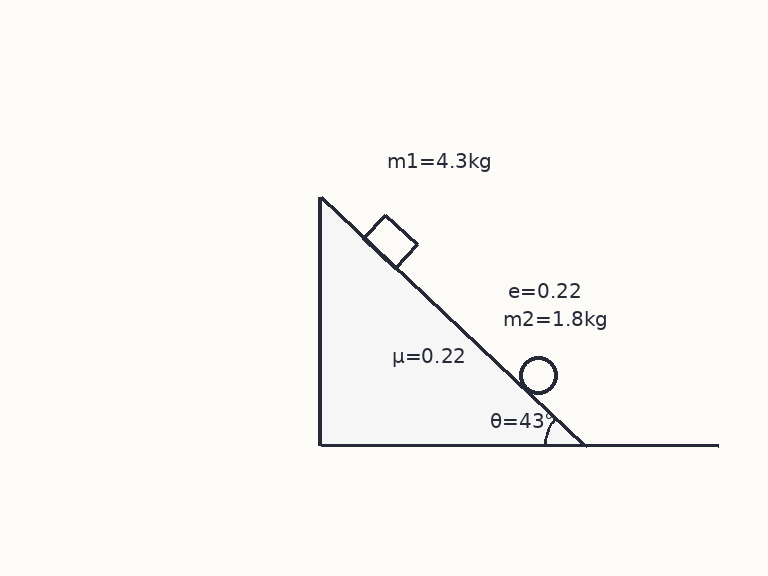ball: (517, 354, 559, 396)
block: (361, 212, 419, 270)
ramp: (318, 196, 587, 447)
